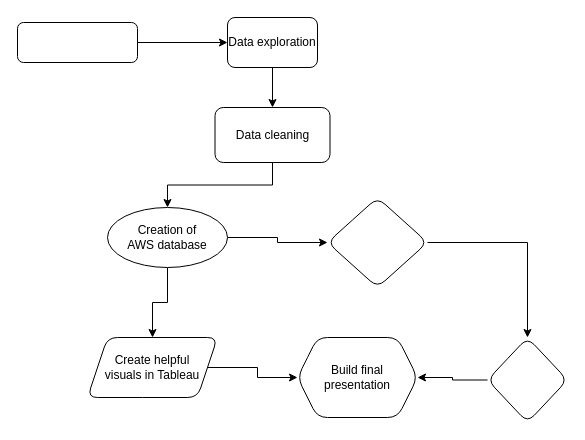
This 585x440 diagram has some shape labels left out. The shapes that lost their labels are listed below. From the top down, each one's centre as x and y in pixels, then its label:
At point (77, 42): "Raw dataset".
At point (377, 242): "Build connection to ML model".
At point (527, 379): "ML model output".
